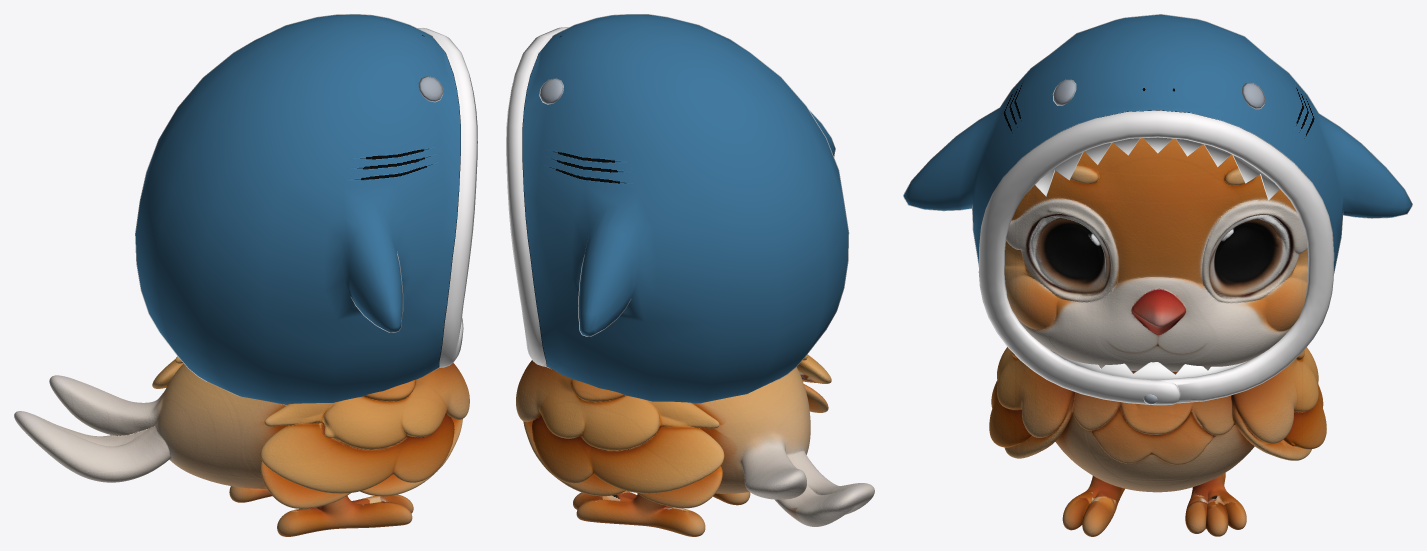
Rendered from birdy_shark_hat.glb.
3 renders of one model, left to right at view 1: azimuth 30°, elevation 25°; view 2: azimuth 150°, elevation 25°; view 3: azimuth 270°, elevation 25°, orthographic. The views are drawn at different scales.
Parts seen in each view (by area): view 1: Hood_3, tripo_part_1_Clone, tripo_part_8_Clone, tripo_part_13_Clone, tripo_part_3_Clone, tripo_part_6_Clone; view 2: Hood_3, tripo_part_16_Clone, tripo_part_15_Clone, tripo_part_8_Clone, tripo_part_13_Clone, tripo_part_11_Clone, tripo_part_1_Clone; view 3: Hood_3, tripo_part_10_Clone, tripo_part_4_Clone, tripo_part_14_Clone, tripo_part_7_Clone, tripo_part_8_Clone, tripo_part_15_Clone, tripo_part_3_Clone, tripo_part_11_Clone, tripo_part_16_Clone, tripo_part_6_Clone, tripo_part_1_Clone (+3 smaller).
Part boxes in pixels (x1,y1,x2,y2): Hood_3: (135,14,477,405); tripo_part_1_Clone: (260,414,462,508); tripo_part_8_Clone: (149,362,287,488); tripo_part_13_Clone: (14,375,170,482); tripo_part_3_Clone: (264,363,469,449); tripo_part_6_Clone: (277,494,413,536); Hood_3: (506,14,849,403); tripo_part_16_Clone: (523,414,724,508); tripo_part_15_Clone: (516,360,719,451); tripo_part_8_Clone: (692,367,810,493); tripo_part_13_Clone: (740,432,874,526); tripo_part_11_Clone: (573,491,705,536); tripo_part_1_Clone: (797,354,831,412); Hood_3: (903,14,1412,405); tripo_part_10_Clone: (1004,138,1307,371); tripo_part_4_Clone: (1006,196,1119,302); tripo_part_14_Clone: (1201,199,1307,303); tripo_part_7_Clone: (1068,371,1232,464); tripo_part_8_Clone: (1055,414,1254,492); tripo_part_15_Clone: (1229,347,1318,443); tripo_part_3_Clone: (997,347,1074,437); tripo_part_11_Clone: (1185,472,1246,536); tripo_part_16_Clone: (1231,384,1326,460); tripo_part_6_Clone: (1062,476,1124,536); tripo_part_1_Clone: (989,380,1064,458).
Size of the model in its own units: 0.9294 by 1.07 by 1.01.
3 materials, 2 textured.
